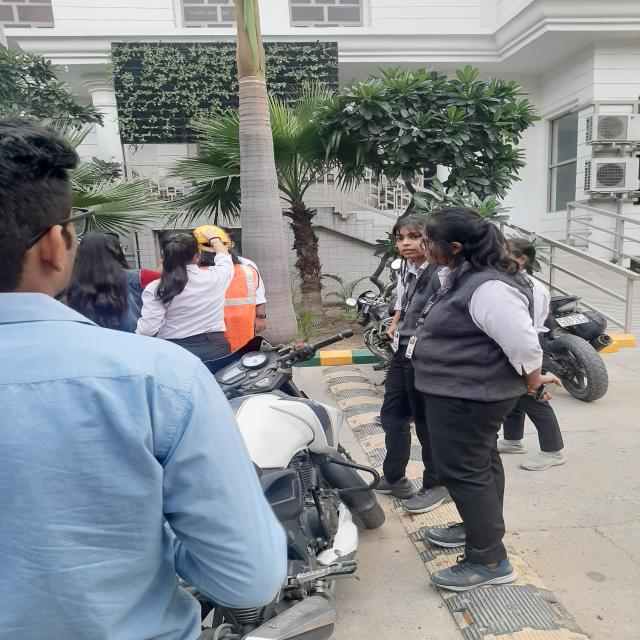safe: (195, 224, 266, 344)
unsafe: (417, 210, 535, 596), (387, 212, 441, 516), (135, 234, 221, 362)
